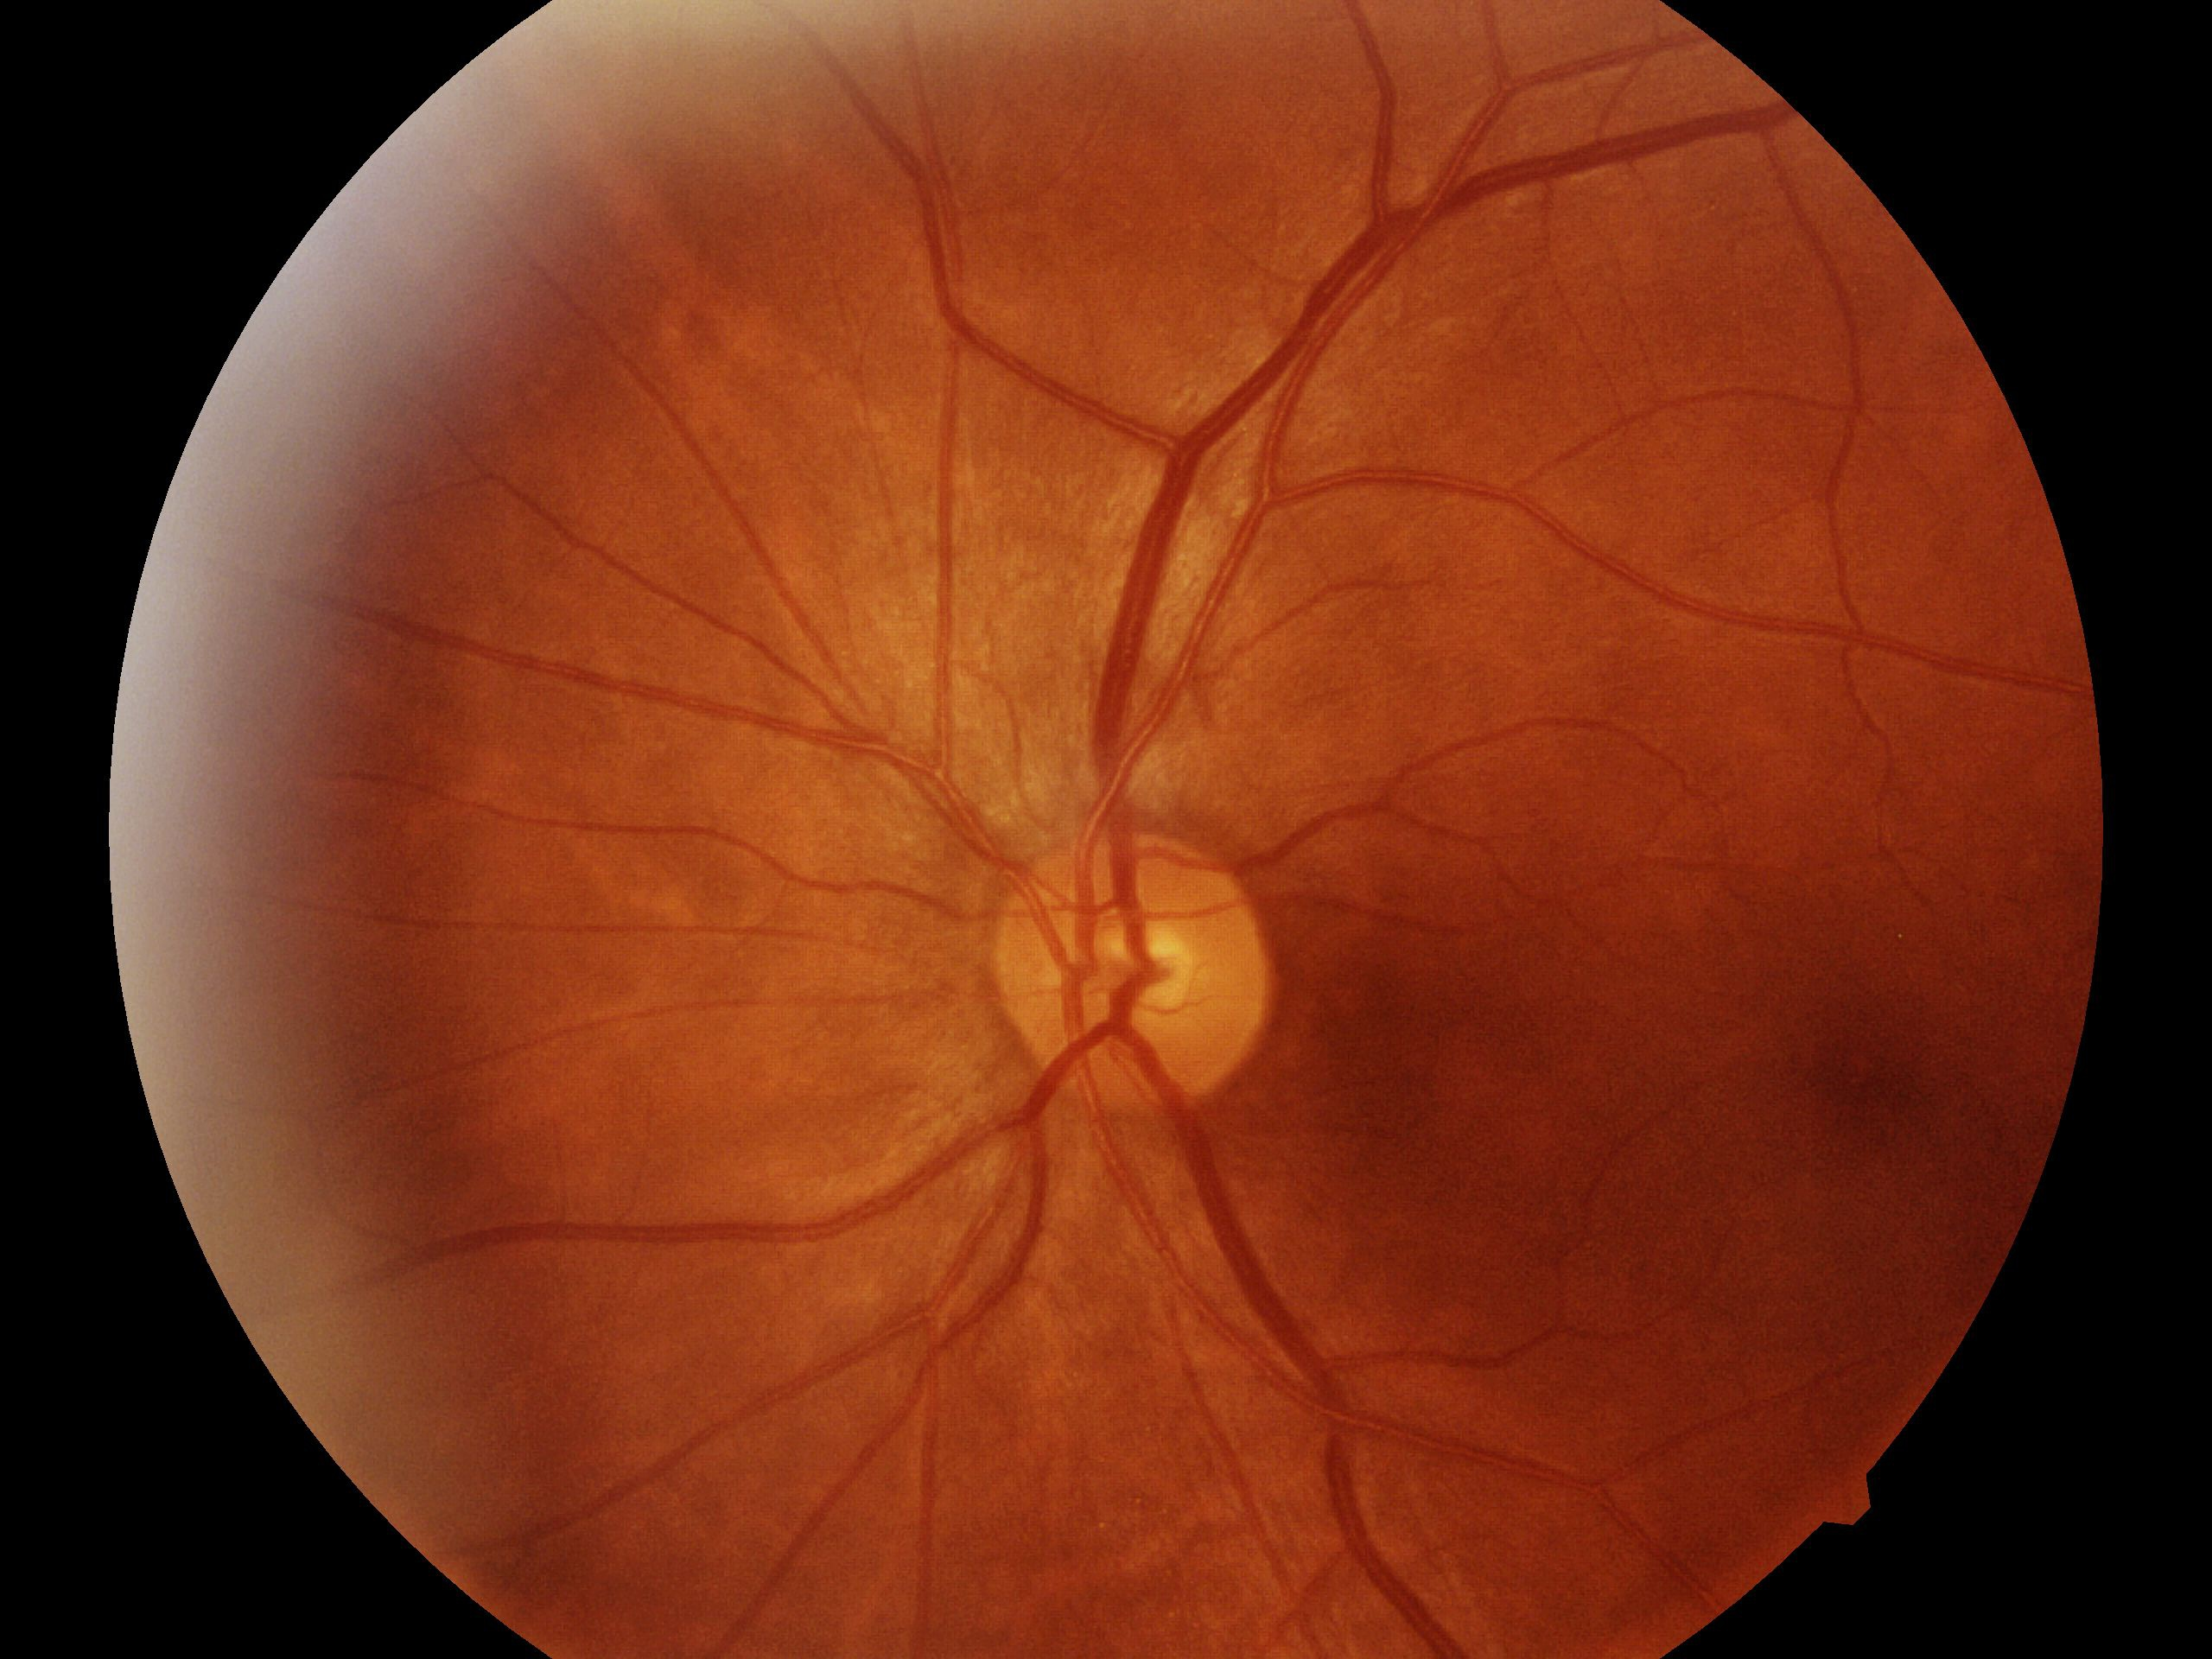Hemorrhages: (1362, 957, 1622, 1140)
Optic-Disc: (1017, 821, 1266, 1141)
Venules: (1089, 199, 1348, 732), (1256, 1220, 1437, 1636)
